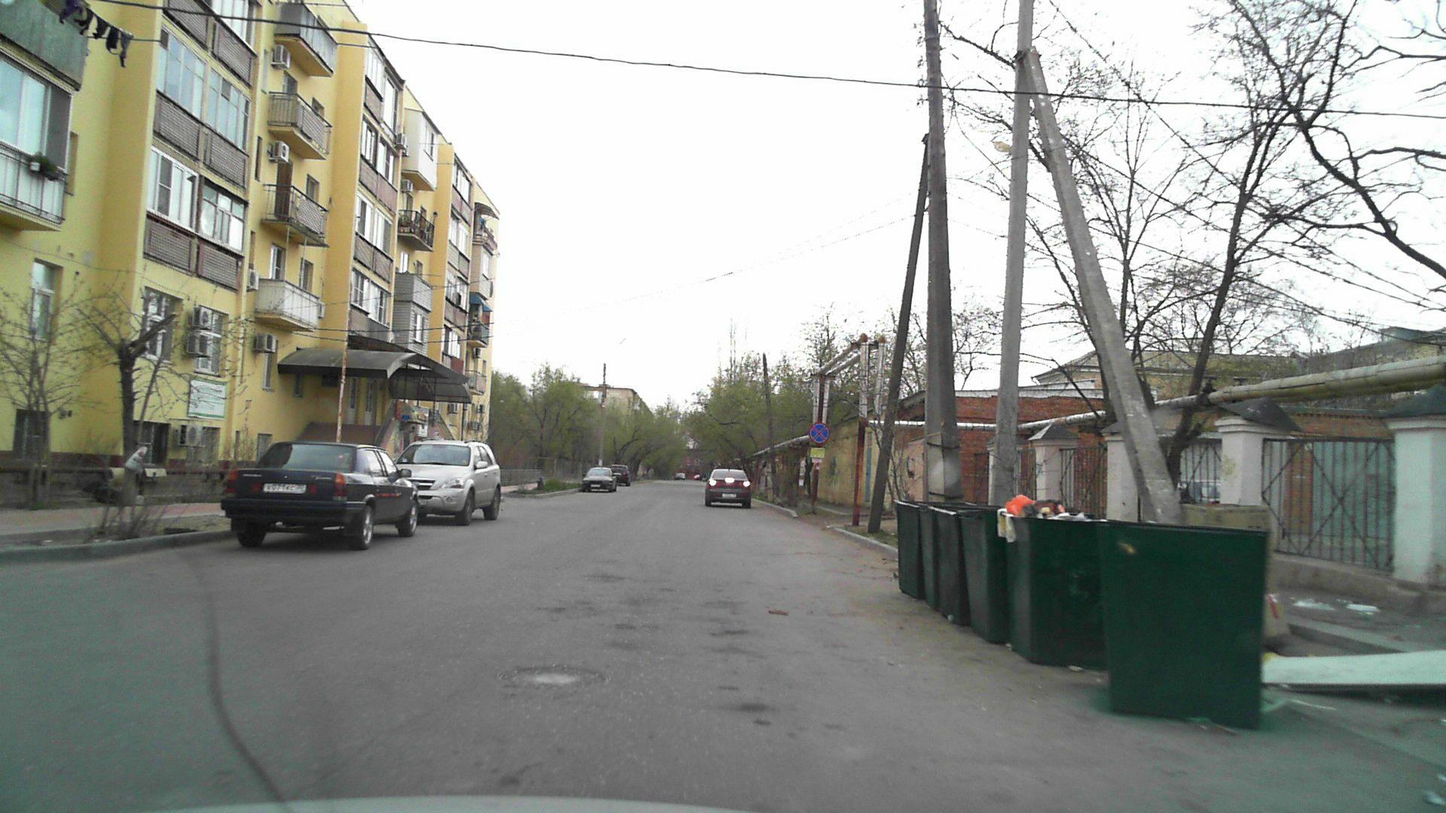road_sign: (809, 422, 831, 443)
